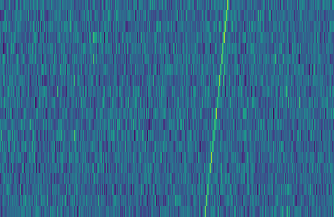signal: (201, 0, 234, 217)
